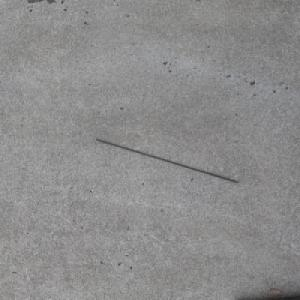LuggagePart: (94, 138, 238, 183)
